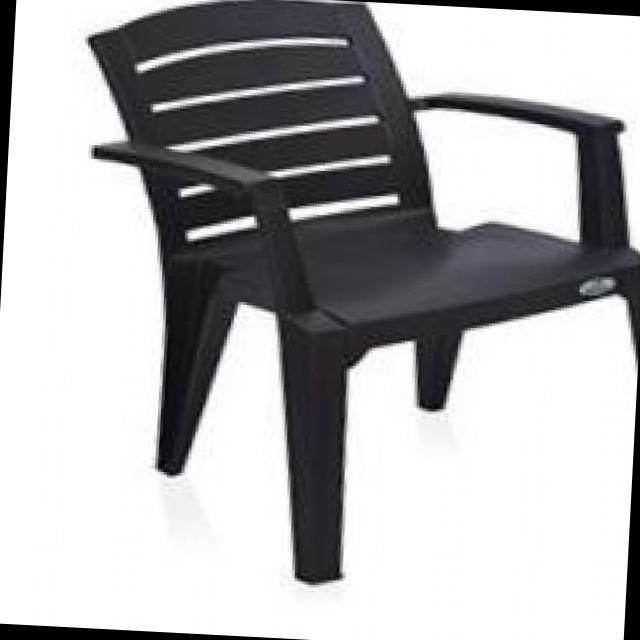Chair: (57, 0, 640, 601)
